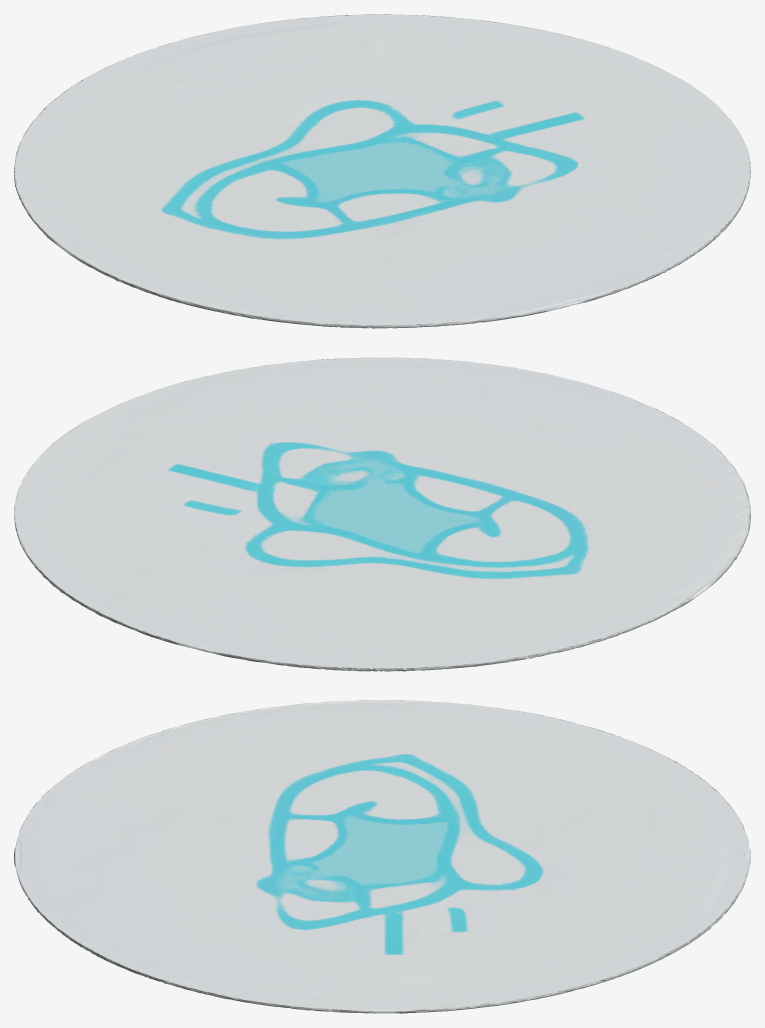
Rendered from ui_booster_icon_speed.glb.
3 renders of one model, top to bottom at view 1: azimuth 30°, elevation 25°; view 2: azimuth 150°, elevation 25°; view 3: azimuth 270°, elevation 25°, orthographic.
Parts seen in each view (by area): view 1: world; view 2: world; view 3: world.
Boxes of the visible parts, left/top/right/bottom form: world: left=14, top=14, right=750, bottom=328; world: left=14, top=357, right=750, bottom=671; world: left=14, top=700, right=750, bottom=1013.
Bounding box in the file's own units: 1 × 0.00588 × 1.
Materials: 1 (1 with a texture image).
